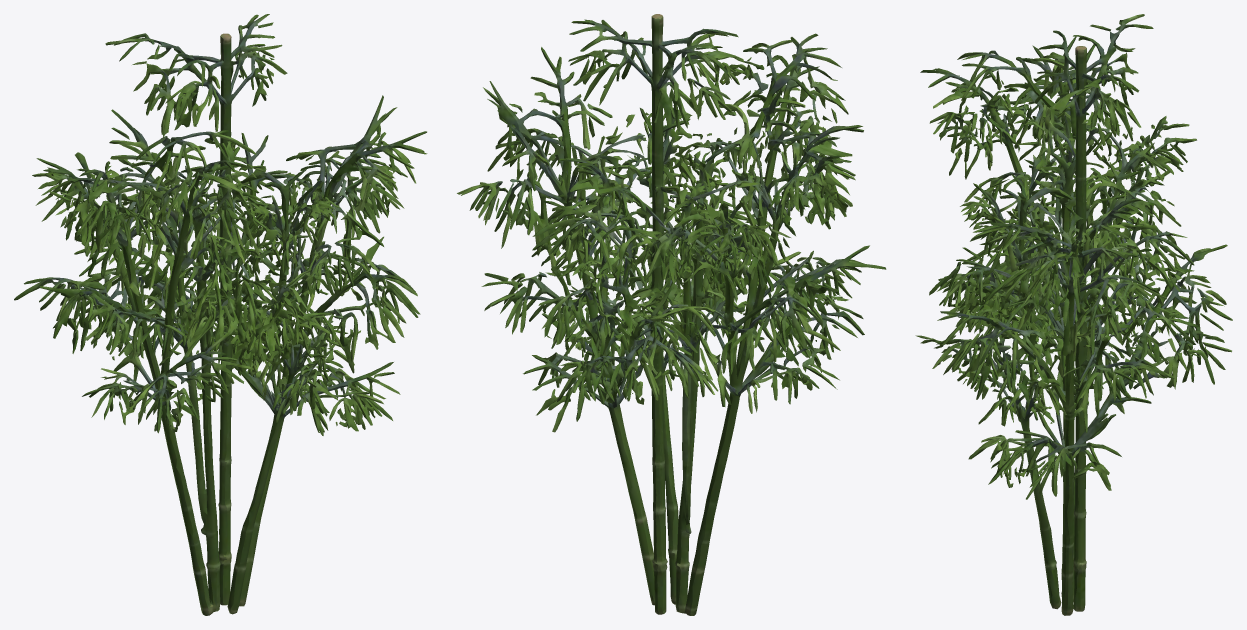
Rendered from bamboo.glb.
The picture shows the model from 3 angles, left to right: view 1: azimuth 30°, elevation 25°; view 2: azimuth 150°, elevation 25°; view 3: azimuth 270°, elevation 25°; orthographic projection. The views are drawn at different scales.
Visible parts, largest first — view 1: geometry_0; view 2: geometry_0; view 3: geometry_0.
Boxes of the visible parts, x1,y1,x2,y2 form: geometry_0: (14, 14, 427, 615); geometry_0: (457, 14, 886, 615); geometry_0: (915, 14, 1232, 615).
Bounding box in the file's own units: 1.2 × 1.8 × 0.9177.
Materials: 1 (1 with a texture image).
